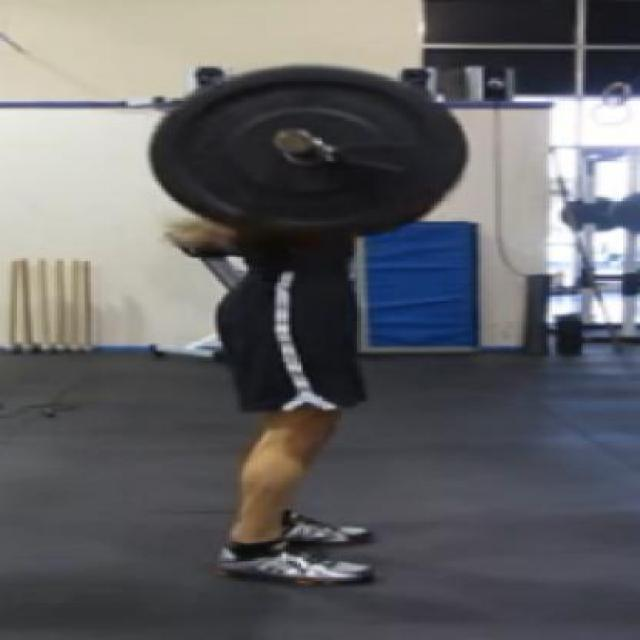Barbell: (269, 122, 320, 156)
